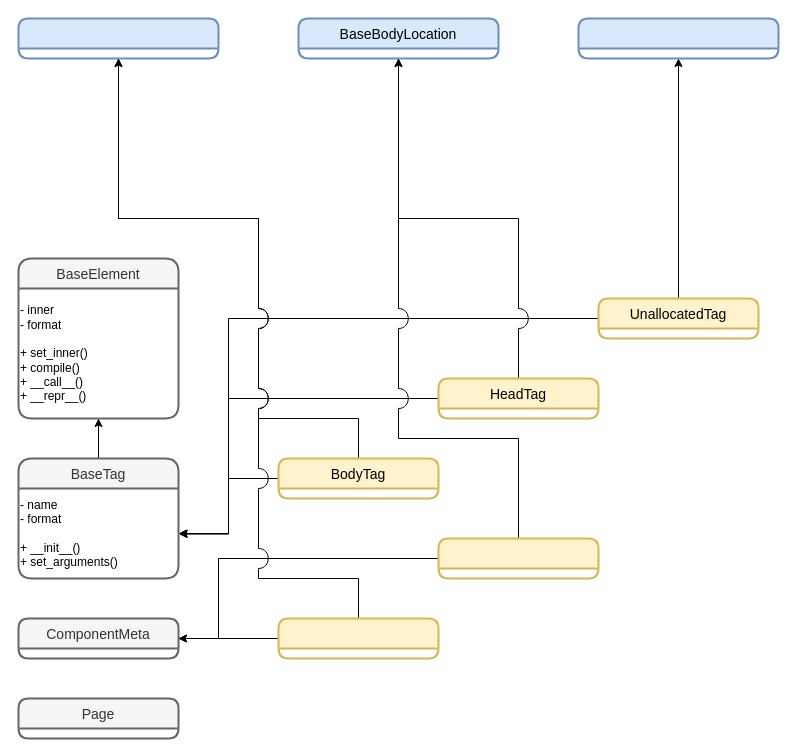
This 796x756 diagram has some shape labels left out. The shapes that lost their labels are listed below. From the top down, each one's centre as x and y in pixels, then its label:
the point at 118,38: BaseHeadLocation
the point at 678,38: BaseUnallocatedLocation
the point at 518,558: HeadComponent
the point at 358,638: BodyComponent
